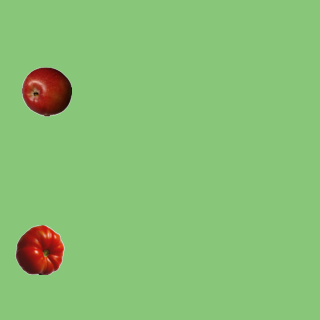Apple Braeburn: (21, 66, 71, 116)
Tomato 3: (14, 224, 64, 274)
